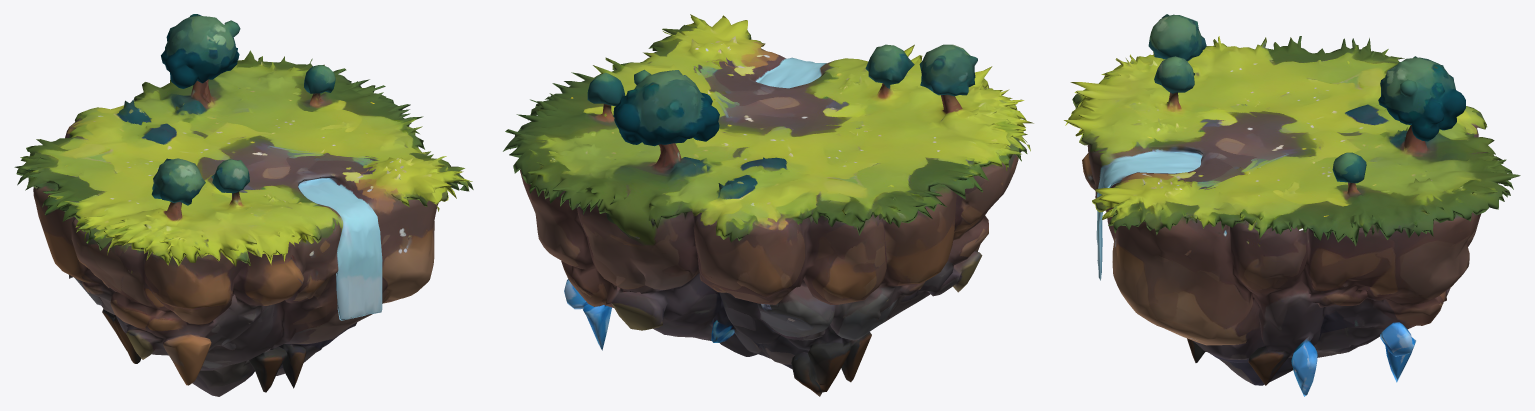
Rendered from schwebeinsel.glb.
3 renders of one model, left to right at view 1: azimuth 30°, elevation 25°; view 2: azimuth 150°, elevation 25°; view 3: azimuth 270°, elevation 25°, orthographic. The views are drawn at different scales.
Visible parts, largest first — view 1: tripo_node_562769bb-1757-4c5f-8378-85026c5ca894; view 2: tripo_node_562769bb-1757-4c5f-8378-85026c5ca894; view 3: tripo_node_562769bb-1757-4c5f-8378-85026c5ca894.
Part boxes in pixels (box(x1,y1,x2,y2)): tripo_node_562769bb-1757-4c5f-8378-85026c5ca894: box(14, 14, 473, 396); tripo_node_562769bb-1757-4c5f-8378-85026c5ca894: box(503, 14, 1033, 396); tripo_node_562769bb-1757-4c5f-8378-85026c5ca894: box(1064, 14, 1520, 396).
Bounding box in the file's own units: 1 × 0.7895 × 0.9919.
Materials: 1 (1 with a texture image).
